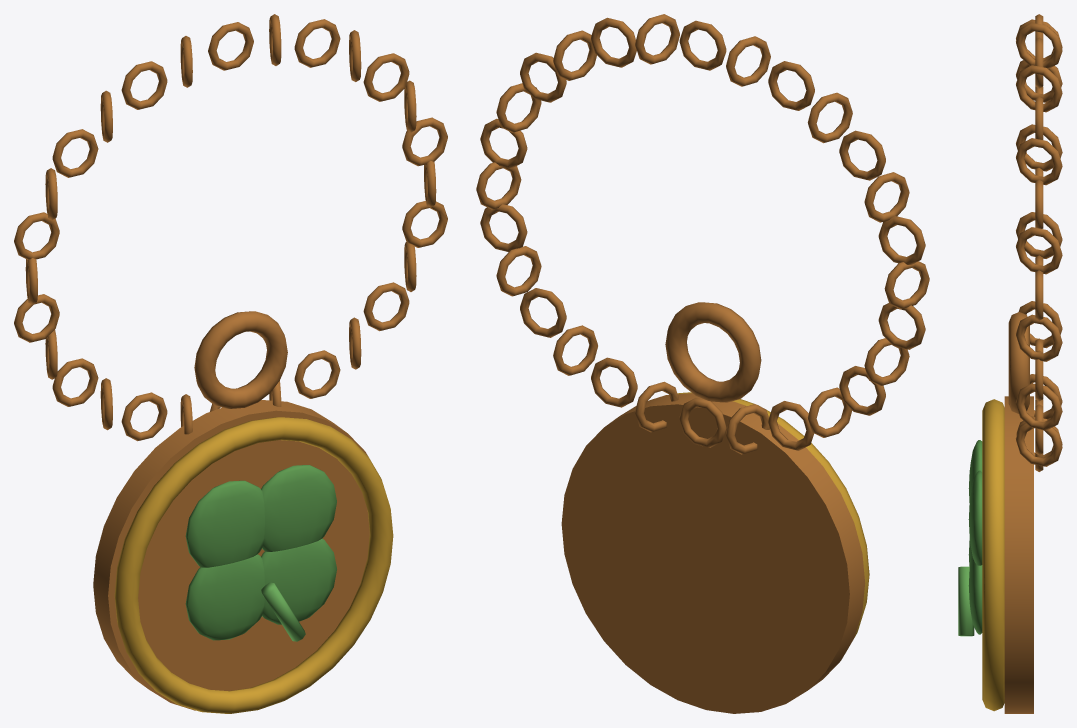
File: acc_lucky_charm.fbx
The picture shows the model from 3 angles, left to right: view 1: azimuth 30°, elevation 25°; view 2: azimuth 150°, elevation 25°; view 3: azimuth 270°, elevation 25°; orthographic projection. The views are drawn at different scales.
Visible parts, largest first — view 1: acc_lucky_charm; view 2: acc_lucky_charm; view 3: acc_lucky_charm.
Boxes of the visible parts, x1,y1,x2,y2 form: acc_lucky_charm: [14, 14, 447, 713]; acc_lucky_charm: [476, 14, 929, 713]; acc_lucky_charm: [958, 14, 1062, 713].
Bounding box in the file's own units: 0.3705 × 0.5485 × 0.0787.
